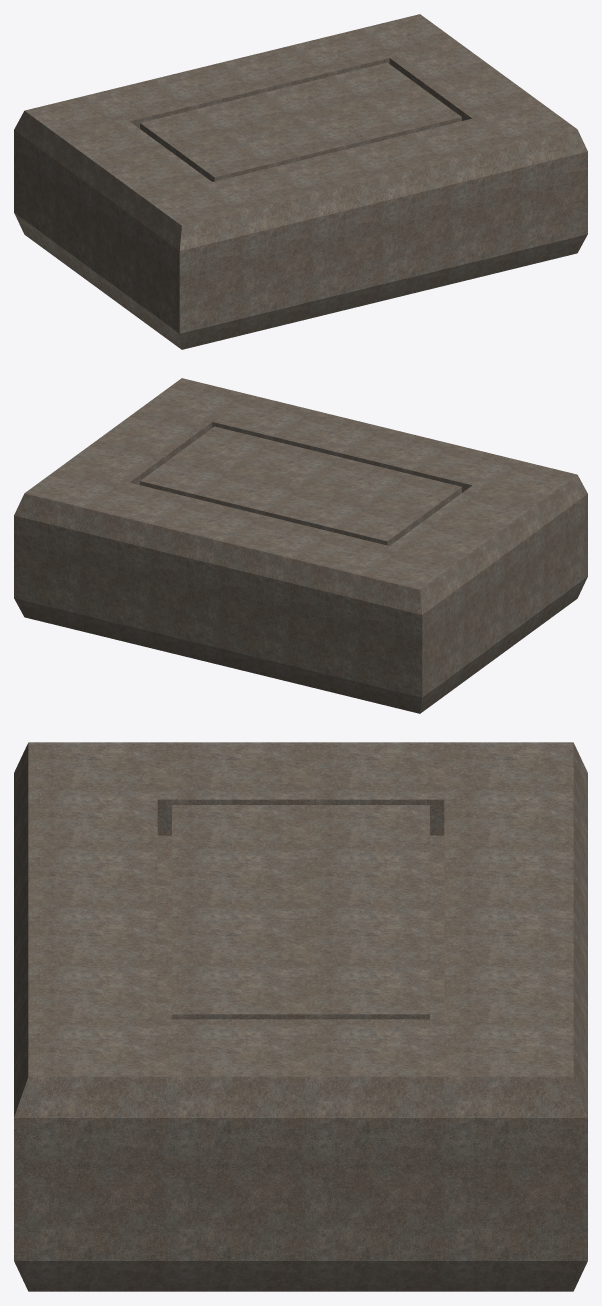
Rendered from wall.glb.
3 renders of one model, top to bottom at view 1: azimuth 30°, elevation 25°; view 2: azimuth 150°, elevation 25°; view 3: azimuth 270°, elevation 25°, orthographic. The views are drawn at different scales.
Parts seen in each view (by area): view 1: wall; view 2: wall; view 3: wall.
Boxes of the visible parts, x1,y1,x2,y2 form: wall: [14, 14, 587, 349]; wall: [14, 378, 587, 713]; wall: [14, 742, 587, 1291].
Bounding box in the file's own units: 5.88 × 1.71 × 4.13.
Materials: 1 (1 with a texture image).
